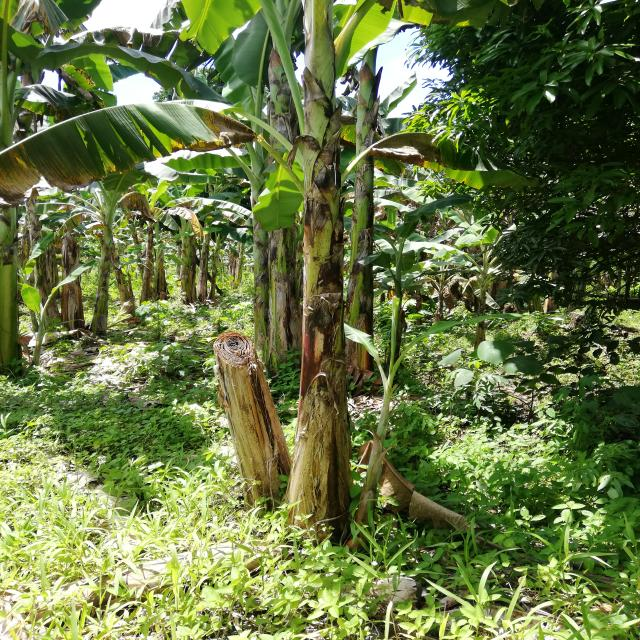Banana-plant: (276, 39, 348, 544), (226, 39, 306, 370), (348, 42, 399, 392), (0, 57, 36, 388)
